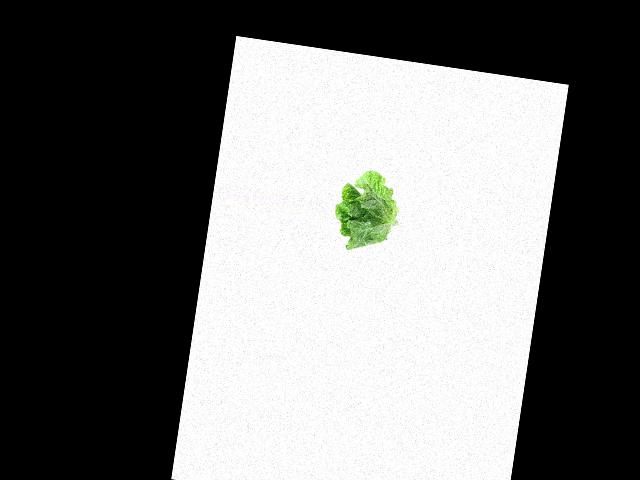lettuce: (330, 167, 401, 257)
